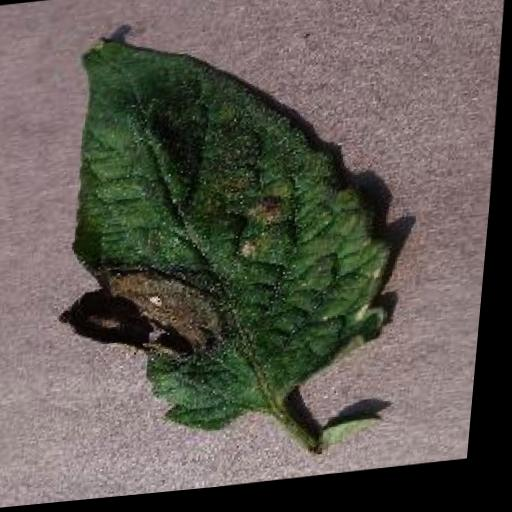Late Blight: (48, 4, 414, 449)
